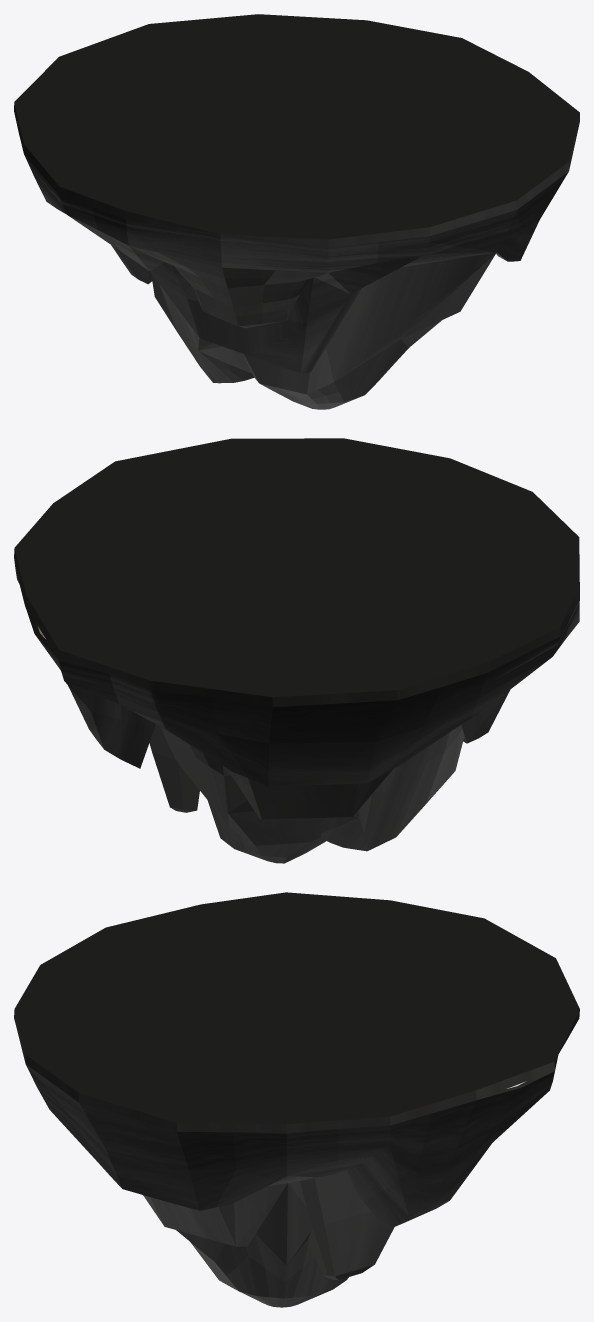
Rendered from islands_set_remade.obj.
The picture shows the model from 3 angles, top to bottom: view 1: azimuth 30°, elevation 25°; view 2: azimuth 150°, elevation 25°; view 3: azimuth 270°, elevation 25°; orthographic projection. The views are drawn at different scales.
Parts seen in each view (by area): view 1: island.main; view 2: island.main; view 3: island.main.
Part boxes in pixels (<box>): island.main: <box>14,14,579,409</box>; island.main: <box>14,438,579,863</box>; island.main: <box>14,892,579,1307</box>.
Bounding box in the file's own units: 20.53 × 11.52 × 21.15.
